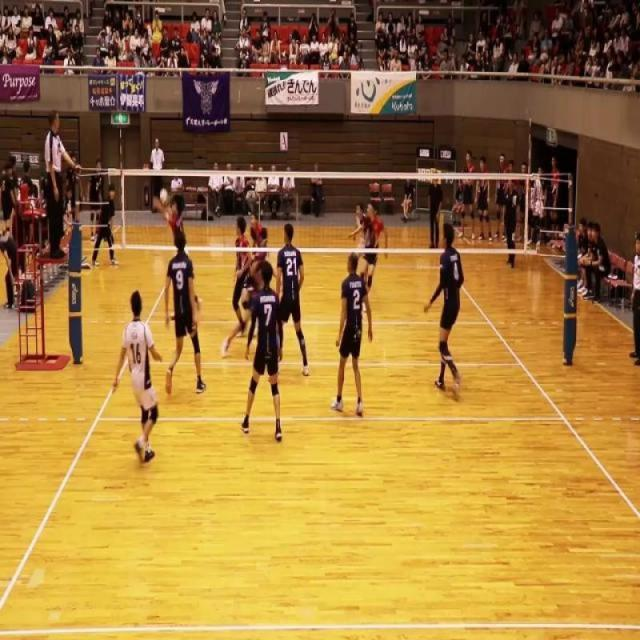volleyball: (160, 188, 168, 206)
